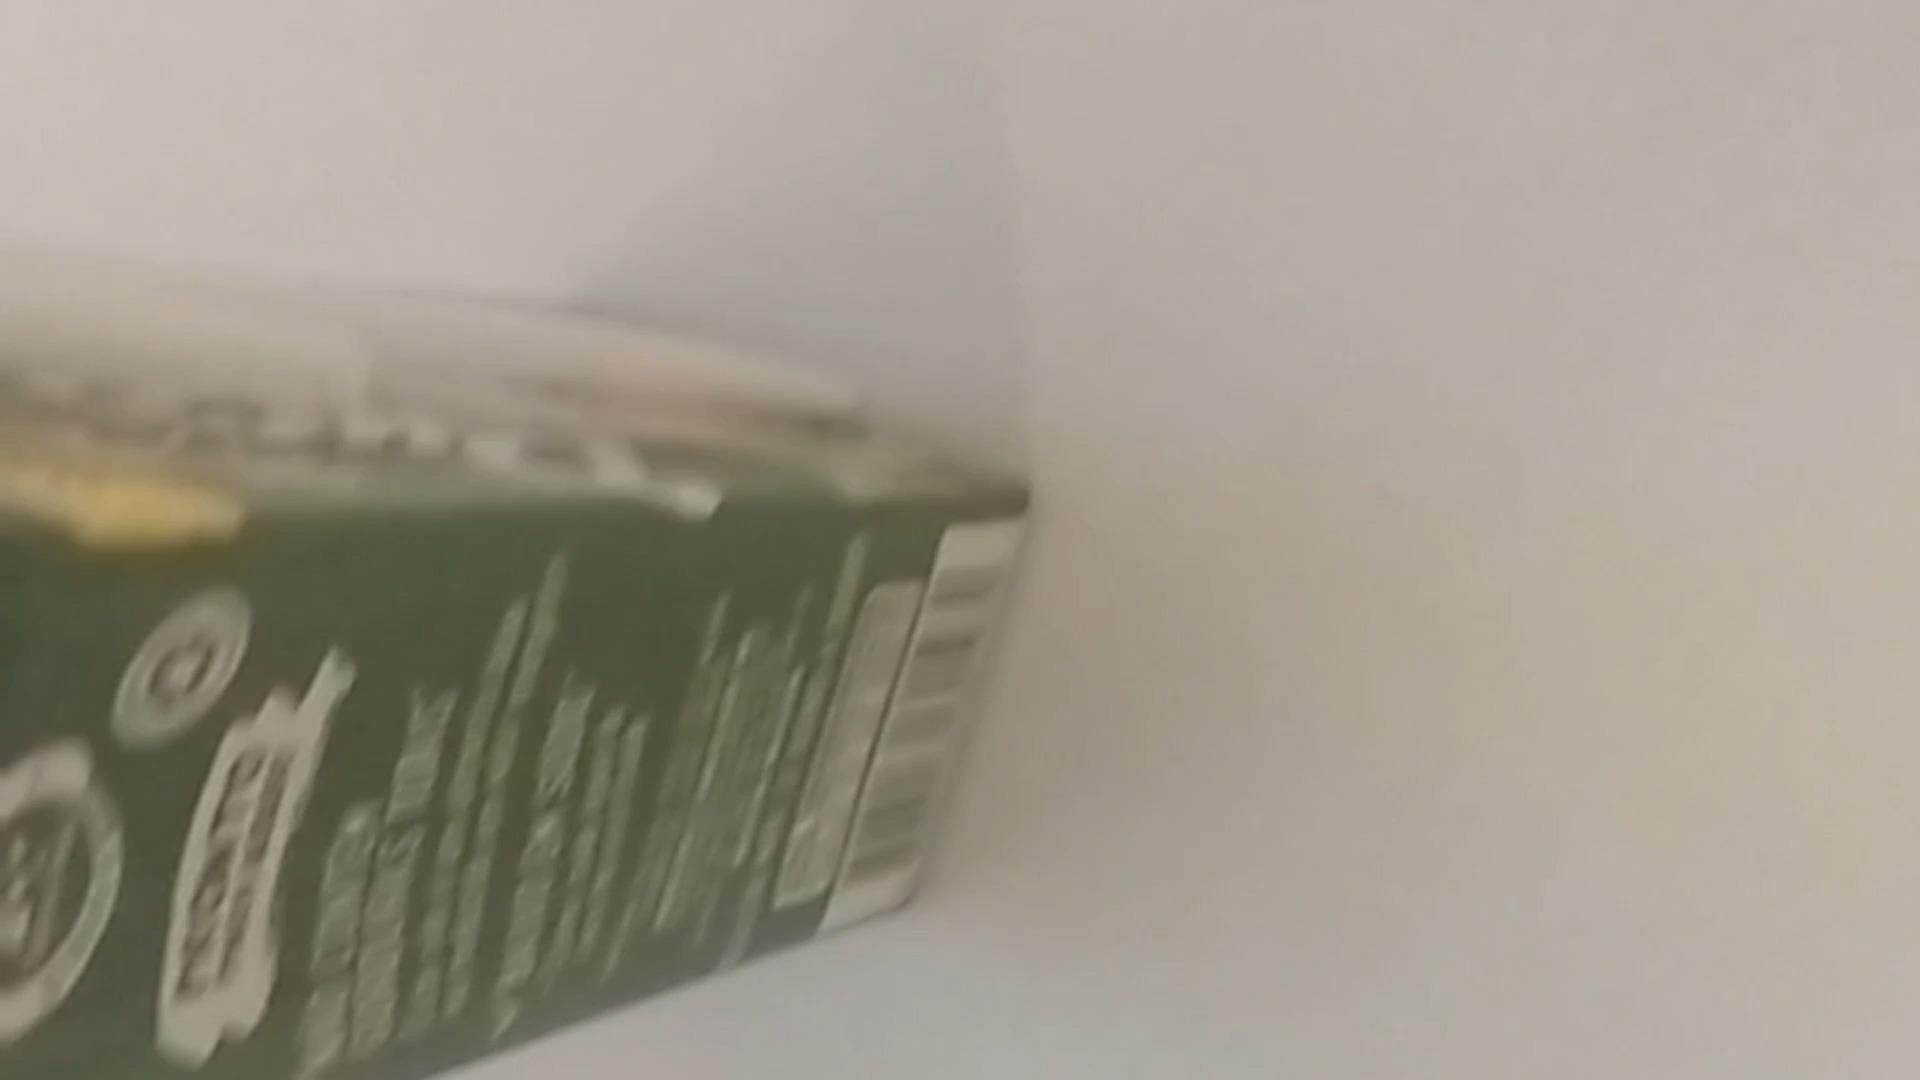coco: (0, 253, 1040, 1080)
